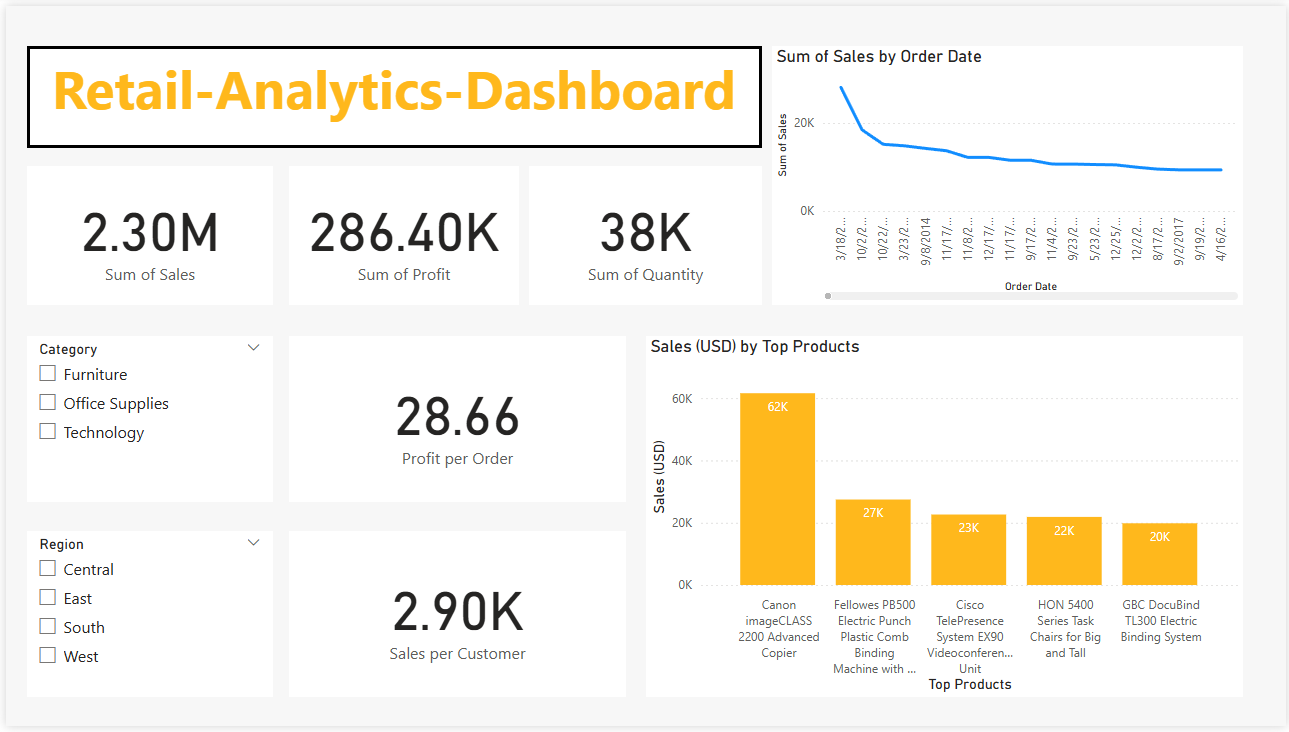

Layout of this report page (visuals, bound fields, positions):
{"tool":"powerbi","page":{"name":"Page 1","canvas":[1280,720],"ordinal":0},"visuals":[{"type":"card","fields":{"Values":["Sum(Sample - Superstore.Sales)"]},"box":[21,160,246,139],"z":0},{"type":"card","fields":{"Values":["Sum(Sample - Superstore.Profit)"]},"box":[283,160,230,139],"z":1000},{"type":"card","fields":{"Values":["Sum(Sample - Superstore.Quantity)"]},"box":[523,160,233,139],"z":2000},{"type":"lineChart","fields":{"Category":["Sample - Superstore.Order Date"],"Y":["Sum(Sample - Superstore.Sales)"]},"box":[766,40,471,259],"z":3000},{"type":"columnChart","fields":{"Category":["Sample - Superstore.Product Name"],"Y":["Sum(Sample - Superstore.Sales)"]},"box":[640,330,597,361],"z":4000},{"type":"slicer","fields":{"Values":["Sample - Superstore.Category"]},"box":[21,330,246,166],"z":5000},{"type":"slicer","fields":{"Values":["Sample - Superstore.Region"]},"box":[21,525,246,166],"z":6000},{"type":"card","fields":{"Values":["Sample - Superstore.Profit per Order"]},"box":[283,330,337,166],"z":6001},{"type":"card","fields":{"Values":["Sample - Superstore.Sales per Customer"]},"box":[283,525,337,166],"z":6002},{"type":"textbox","box":[21,40,735,102],"z":6003},{"type":"shape","box":[21,40,735,102],"z":6004}]}

Visuals, with their boxes in screenshot pixels (x1, y1, x2, y2), scaled from the page's 1280x720 canvas onto the 1289x732 screenshot:
card - Sum(Sample - Superstore.Sales): left=21, top=163, right=269, bottom=304
card - Sum(Sample - Superstore.Profit): left=285, top=163, right=517, bottom=304
card - Sum(Sample - Superstore.Quantity): left=527, top=163, right=761, bottom=304
lineChart - Sample - Superstore.Order Date x Sum(Sample - Superstore.Sales): left=771, top=41, right=1246, bottom=304
columnChart - Sample - Superstore.Product Name x Sum(Sample - Superstore.Sales): left=644, top=336, right=1246, bottom=703
slicer - Sample - Superstore.Category: left=21, top=336, right=269, bottom=504
slicer - Sample - Superstore.Region: left=21, top=534, right=269, bottom=703
card - Sample - Superstore.Profit per Order: left=285, top=336, right=624, bottom=504
card - Sample - Superstore.Sales per Customer: left=285, top=534, right=624, bottom=703
textbox: left=21, top=41, right=761, bottom=144
shape: left=21, top=41, right=761, bottom=144
